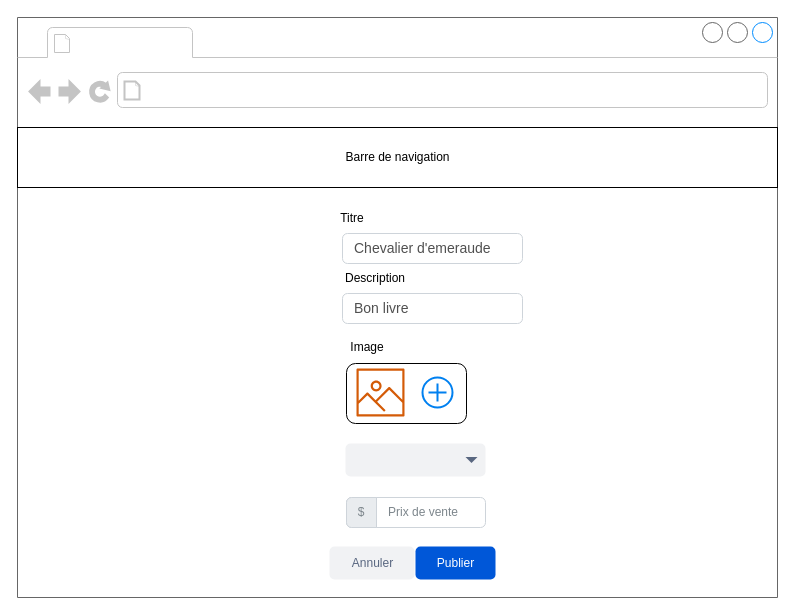
The diagram is 795 pixels wide and 615 high, and some of its shapes have lost their labels. Each missing label, with the centre of its shape:
"https://www.draw.io" belongs at point (272, 90).
"Page 1" belongs at point (132, 42).
"Programme d'étude" belongs at point (415, 459).
